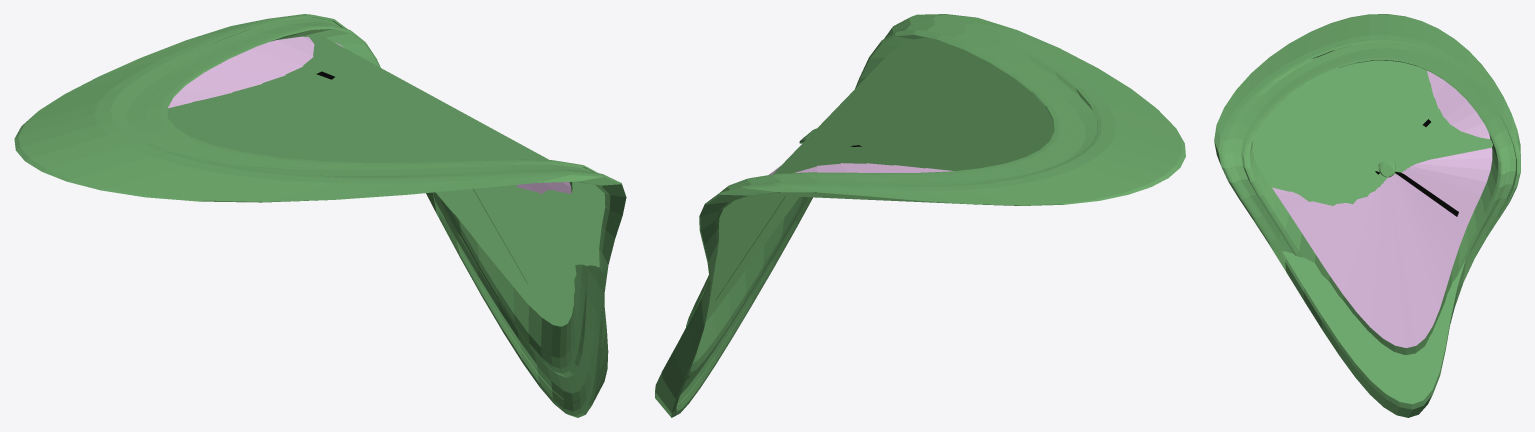
The model's file is melting clock3(SEP).fbx.
The picture shows the model from 3 angles, left to right: view 1: azimuth 30°, elevation 25°; view 2: azimuth 150°, elevation 25°; view 3: azimuth 270°, elevation 25°; orthographic projection. The views are drawn at different scales.
Parts seen in each view (by area): view 1: Cylinder.002, Cylinder; view 2: Cylinder.002, Cylinder; view 3: Cylinder.002, Cylinder, Cylinder.001.
Boxes of the visible parts, x1,y1,x2,y2 form: Cylinder.002: (18,14,623,404); Cylinder: (14,16,626,417); Cylinder.002: (655,14,1182,391); Cylinder: (655,35,1185,417); Cylinder.002: (1214,14,1520,403); Cylinder: (1222,14,1516,417); Cylinder.001: (1375,119,1458,216).
Size of the model in its own units: 462 by 312 by 356.
